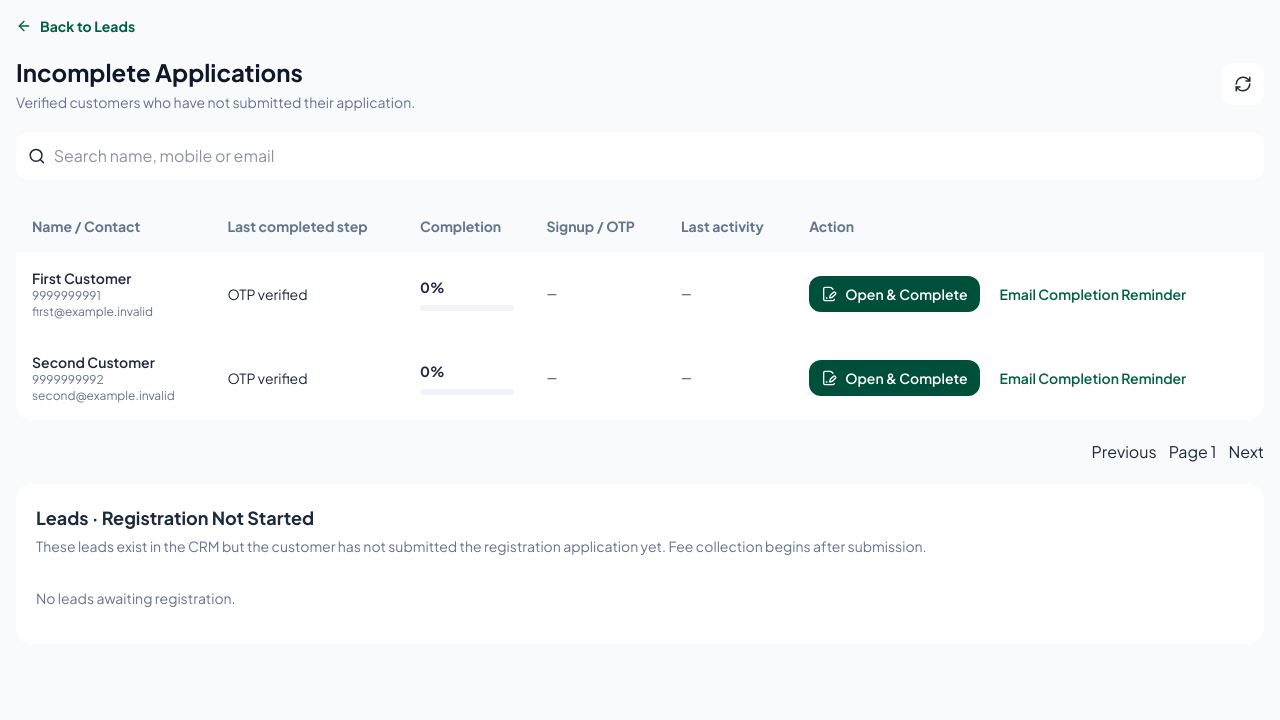
Test: a server waiting-period response disables only the attempted customer button
Click the button "Email Completion Reminder" in the row of "First Customer" at point(1093, 294), box [988, 276, 1198, 312]
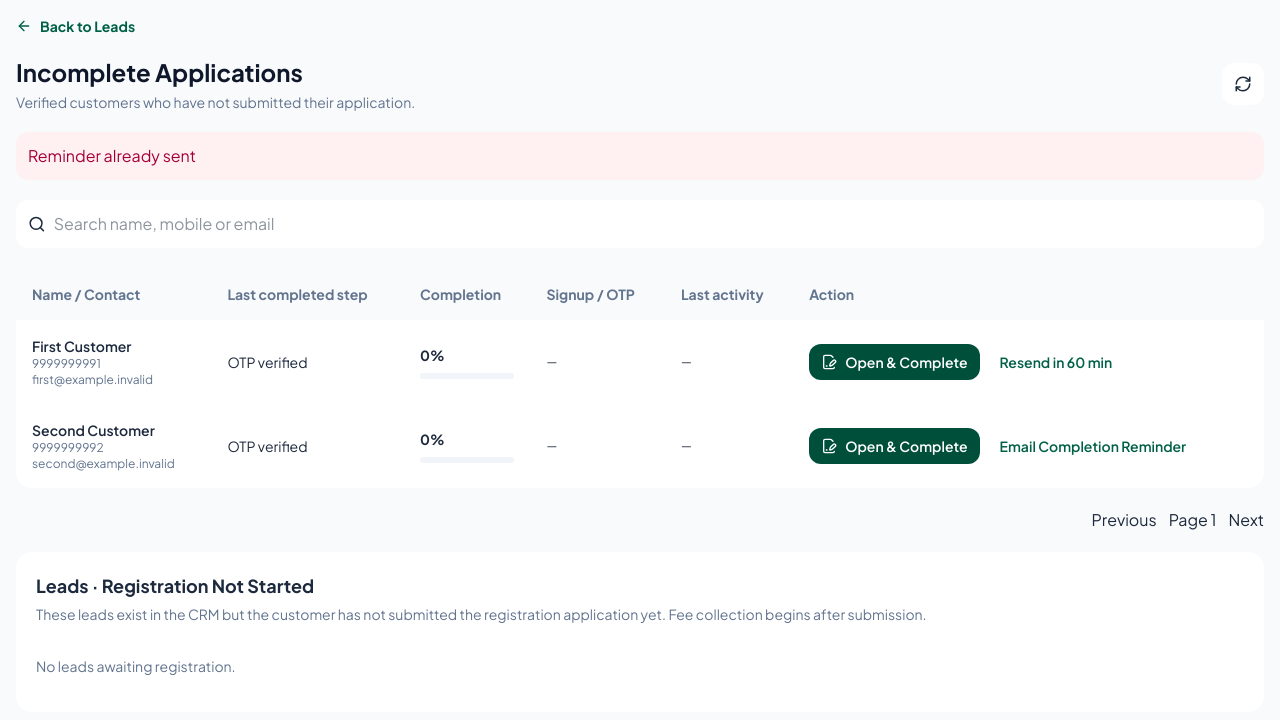
Expected: the button "Email Completion Reminder" is enabled, [988, 428, 1198, 464]
Result: the message "Reminder already sent" is shown at [16, 132, 1264, 180]
Result: the button "Resend in 60 min" is disabled at [988, 344, 1124, 380]
